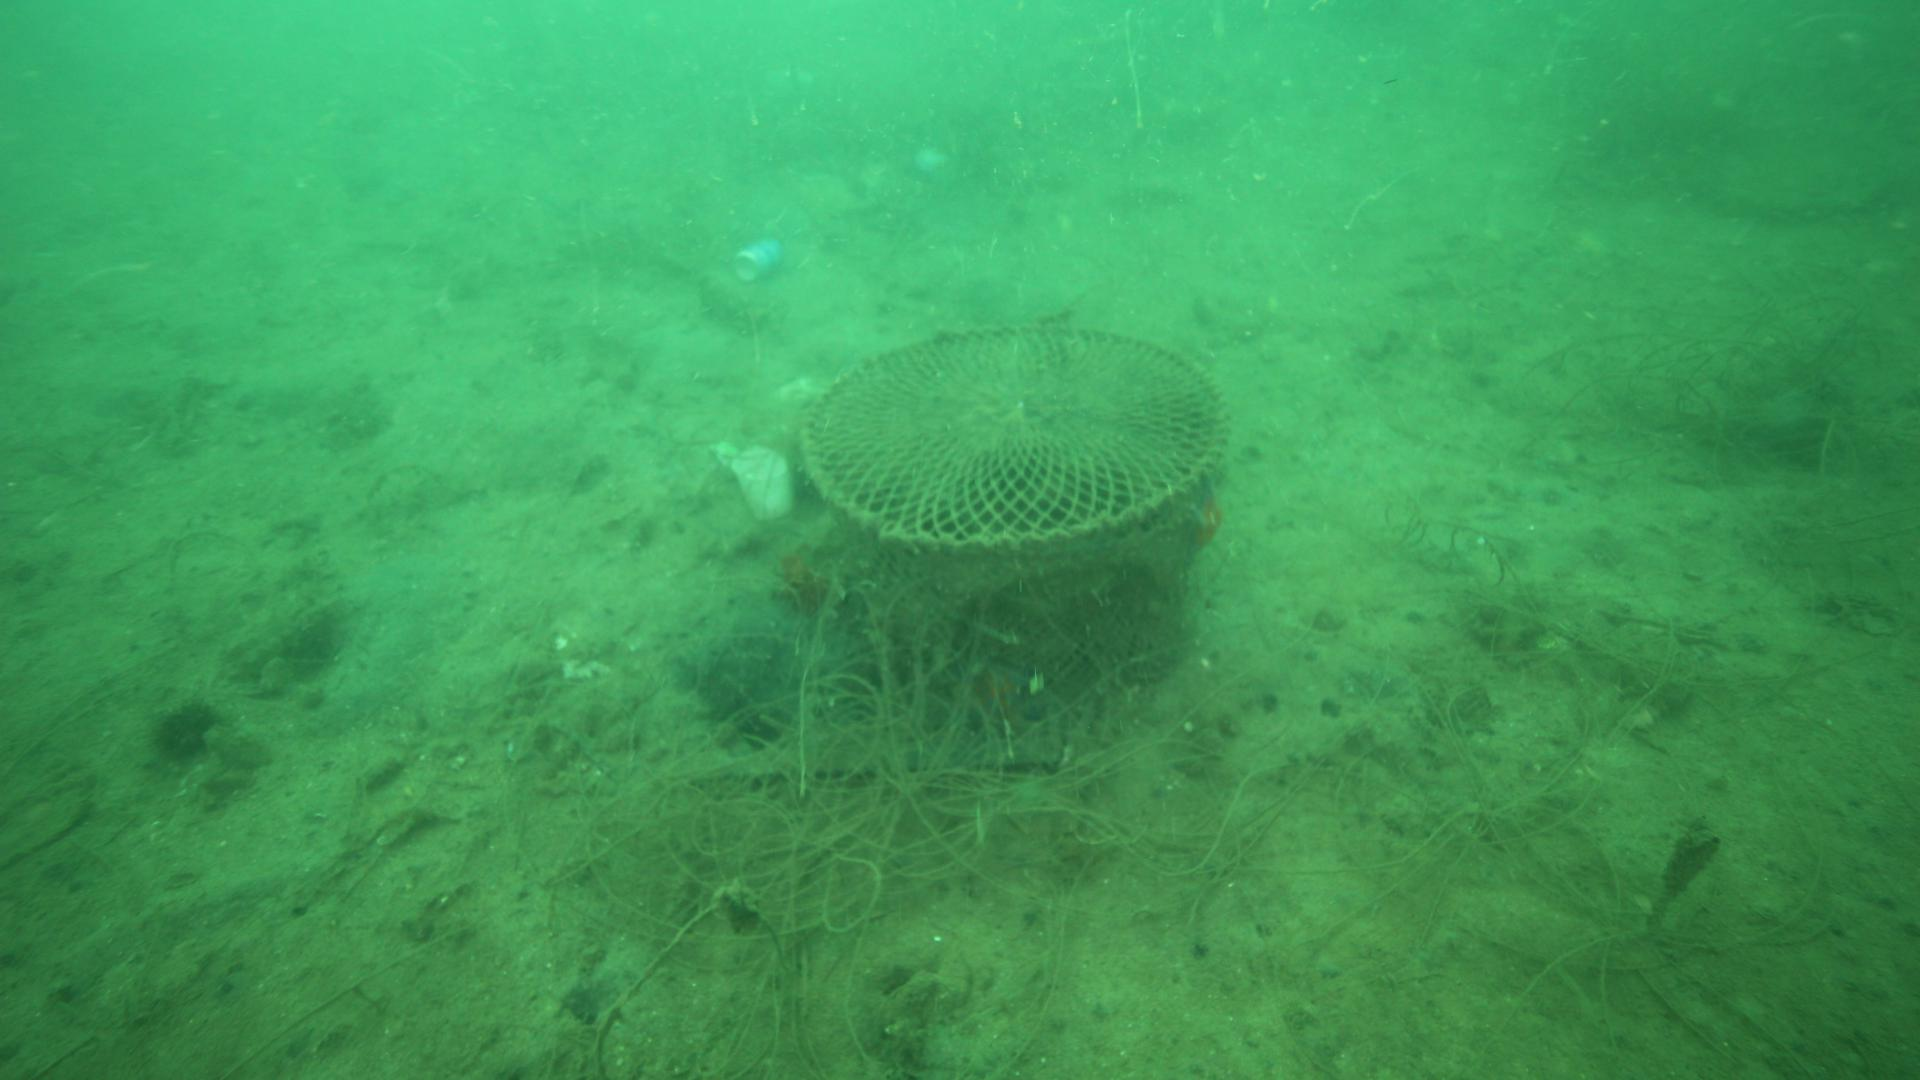circular fish trap: (795, 316, 1232, 684)
